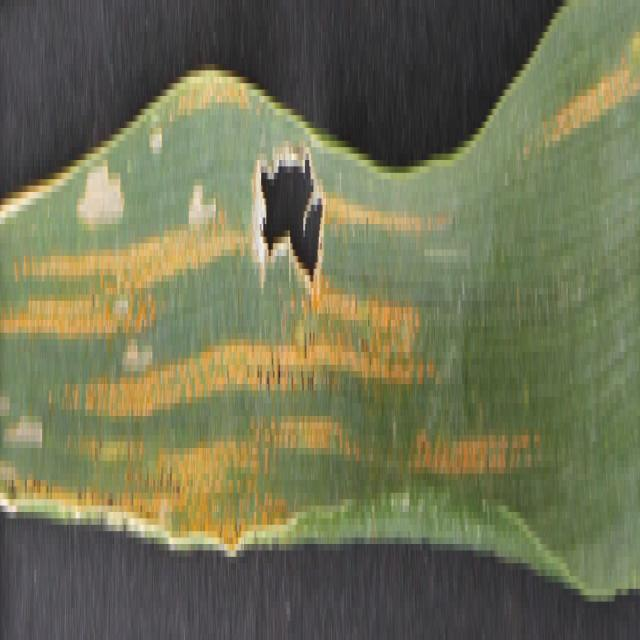leaf rust: (3, 243, 318, 531), (322, 166, 532, 525), (542, 6, 640, 237)
